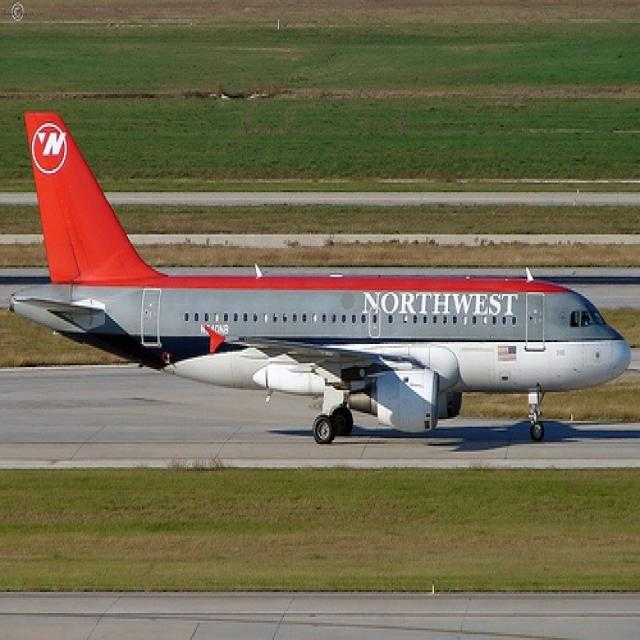aeroplane: (12, 108, 631, 444)
